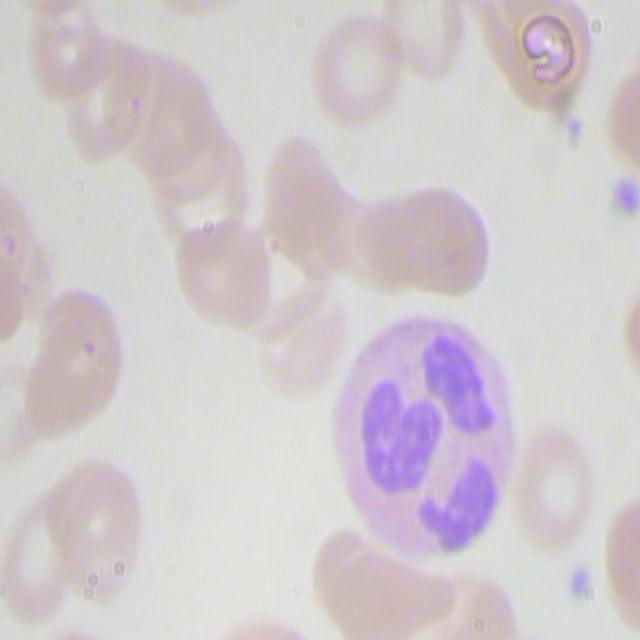RBC: (171, 59, 257, 321), (274, 136, 390, 299), (356, 175, 496, 307), (309, 530, 448, 640), (48, 445, 144, 604), (26, 284, 126, 431), (486, 2, 602, 127), (307, 4, 407, 131), (62, 40, 158, 161), (242, 270, 330, 402), (507, 427, 599, 552), (31, 0, 118, 120), (7, 190, 56, 374), (2, 502, 78, 620), (382, 0, 467, 90), (601, 489, 640, 631), (465, 569, 542, 640)
WBC: (333, 294, 523, 582)
platelets: (562, 557, 600, 612), (606, 172, 640, 219)
